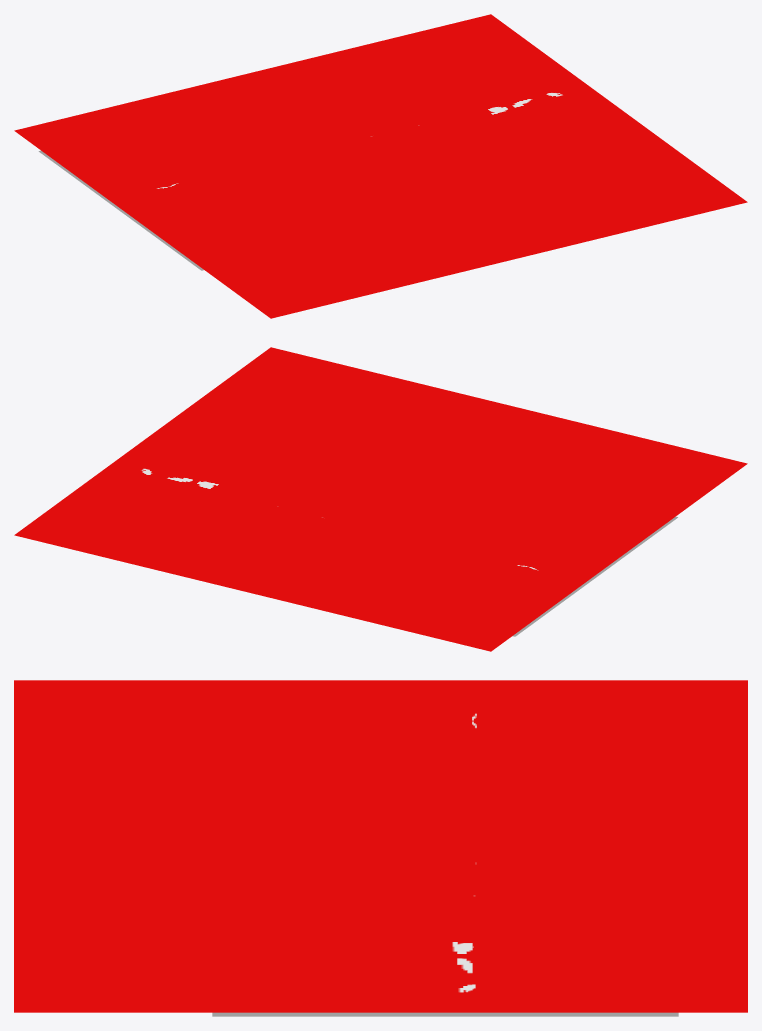
The model's file is Carpet.fbx.
3 renders of one model, top to bottom at view 1: azimuth 30°, elevation 25°; view 2: azimuth 150°, elevation 25°; view 3: azimuth 270°, elevation 25°, orthographic. The views are drawn at different scales.
Visible parts, largest first — view 1: pPlane2, pPlane1; view 2: pPlane2, pPlane1; view 3: pPlane2, pPlane1.
Part boxes in pixels (x1=…): pPlane2: x1=14, y1=14, x2=747, y2=318; pPlane1: x1=38, y1=150, x2=203, y2=270; pPlane2: x1=14, y1=347, x2=747, y2=651; pPlane1: x1=512, y1=516, x2=677, y2=636; pPlane2: x1=14, y1=680, x2=747, y2=1012; pPlane1: x1=212, y1=1012, x2=678, y2=1016.
Bounding box in the file's own units: 12 × 0.0691 × 11.19.
2 materials, 2 textured.
